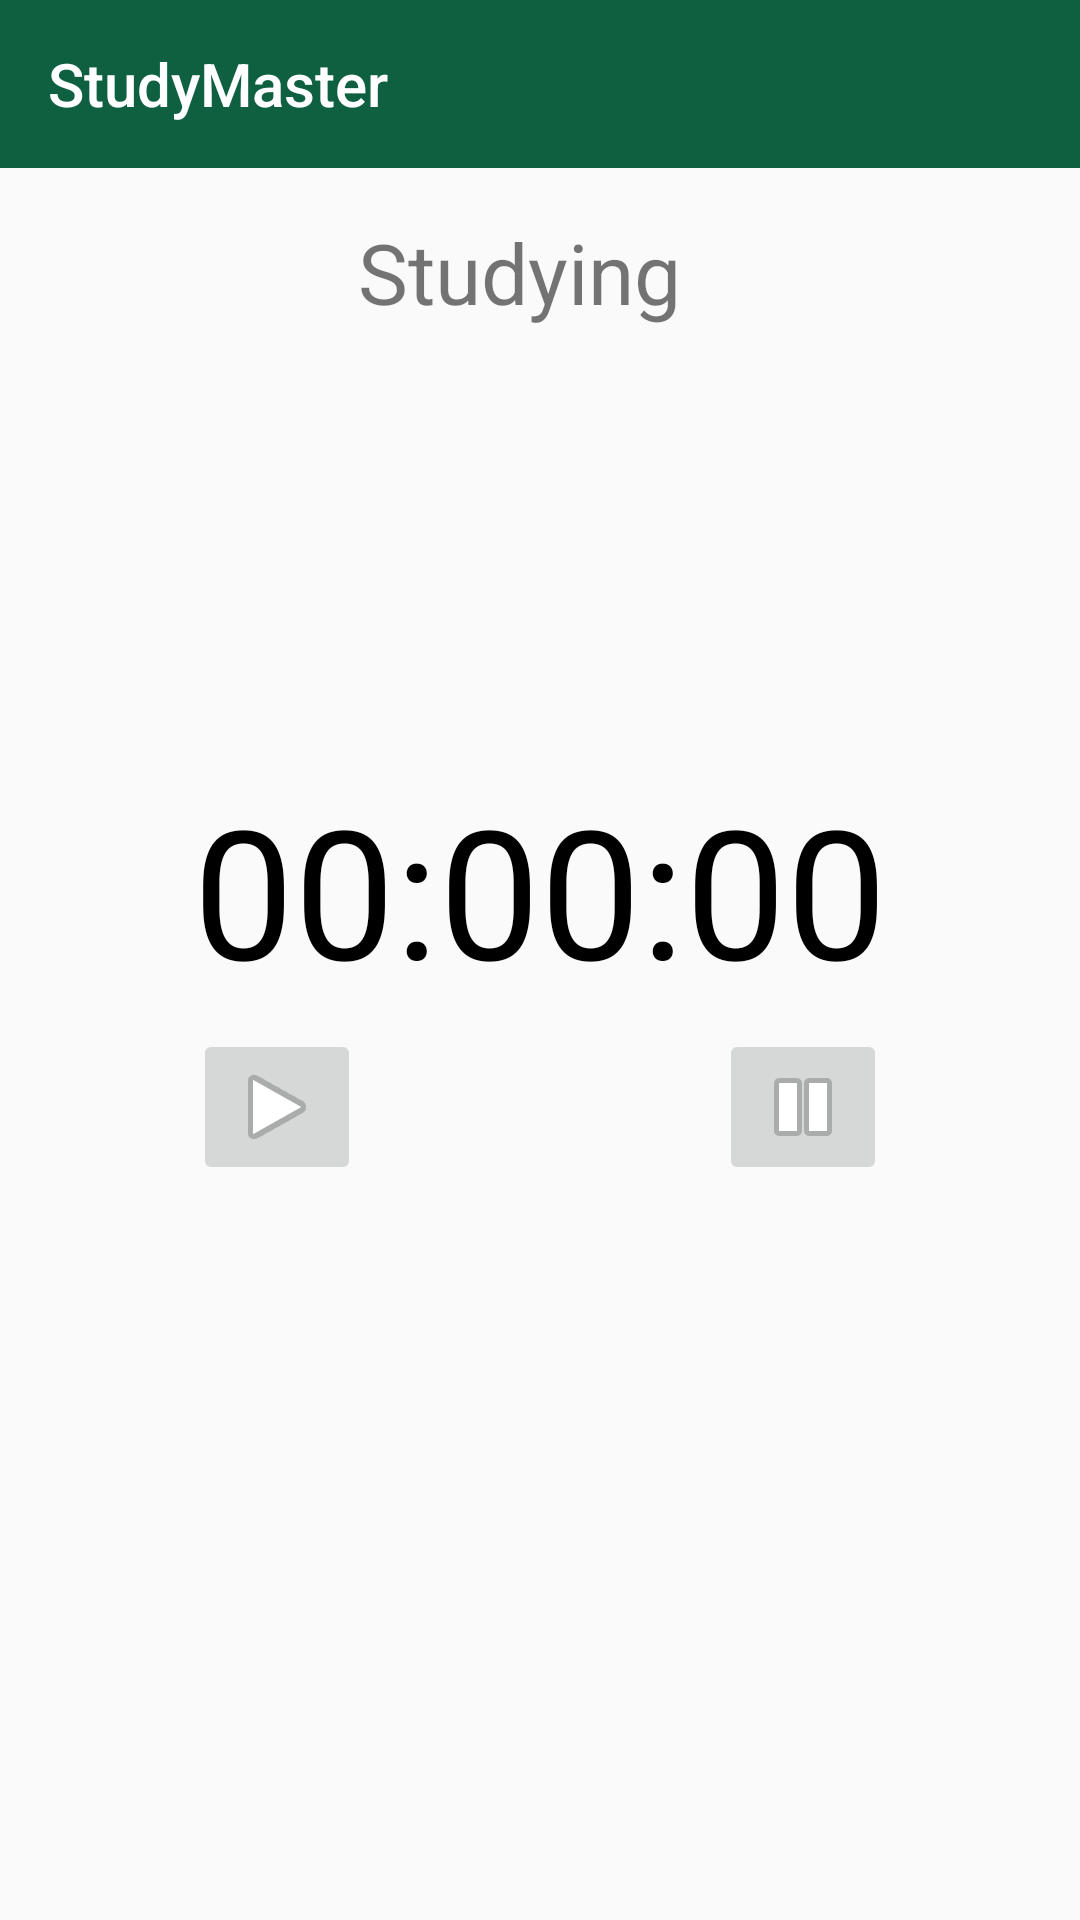

Screen size 1080px×1920px. Icon name, then its box in pixels as (x1, y1, x2, y2):
pause: (731, 1047, 875, 1167)
play: (205, 1047, 349, 1167)
